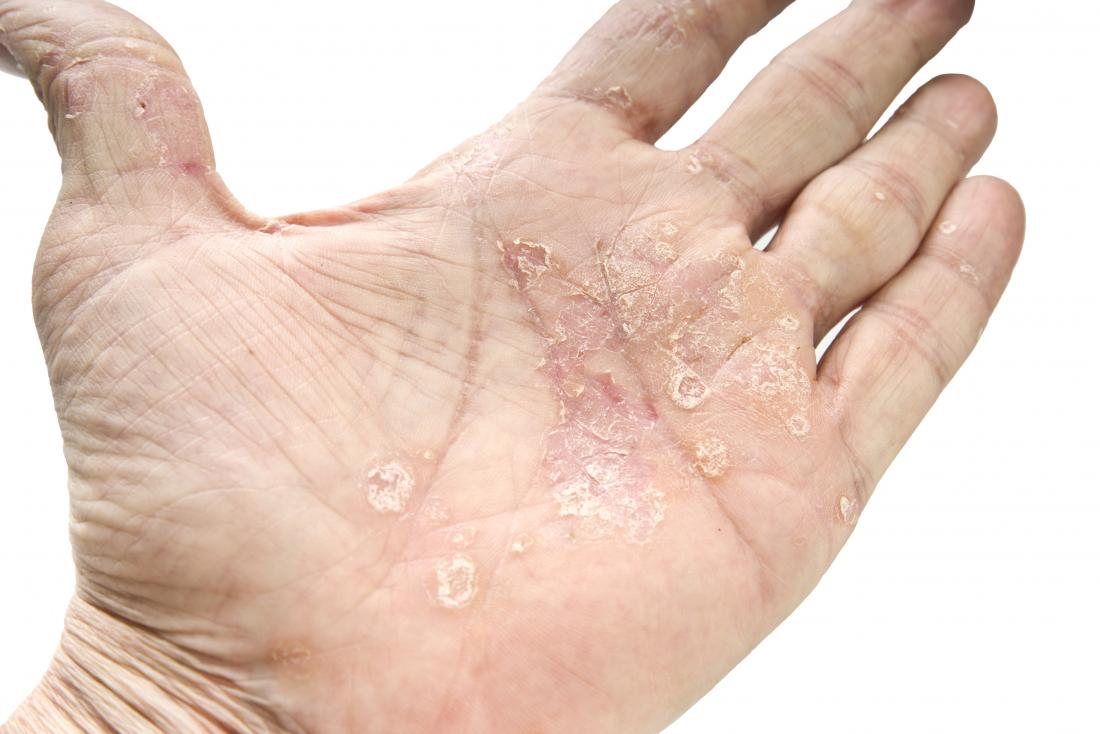Diseased: (112, 81, 866, 611)
